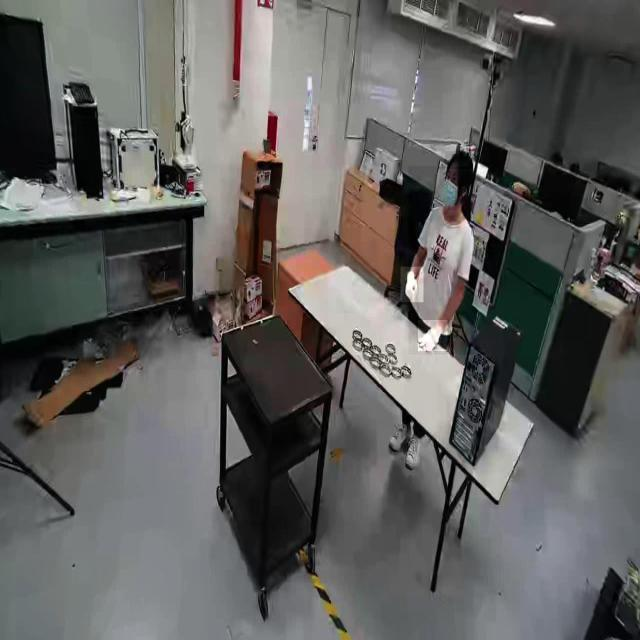face_mask: (439, 170, 461, 212)
hand_glove: (418, 320, 448, 352), (400, 267, 424, 303)
head_nohelmet: (445, 151, 473, 170)
person: (408, 166, 478, 356)
shoes: (402, 428, 426, 472), (386, 417, 412, 452)
